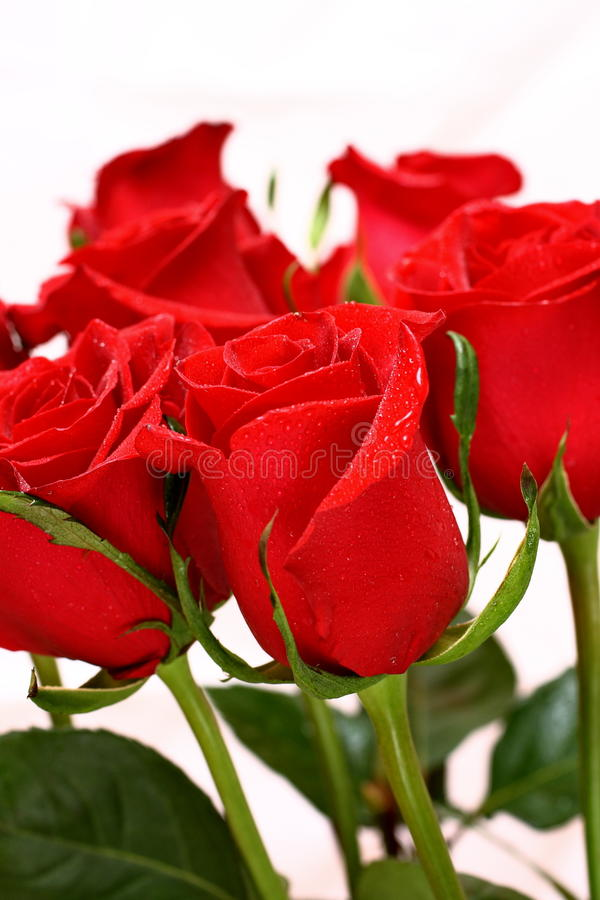RedRose: (197, 339, 451, 649), (416, 179, 595, 524), (18, 343, 169, 668), (64, 168, 269, 391), (337, 149, 527, 284)
